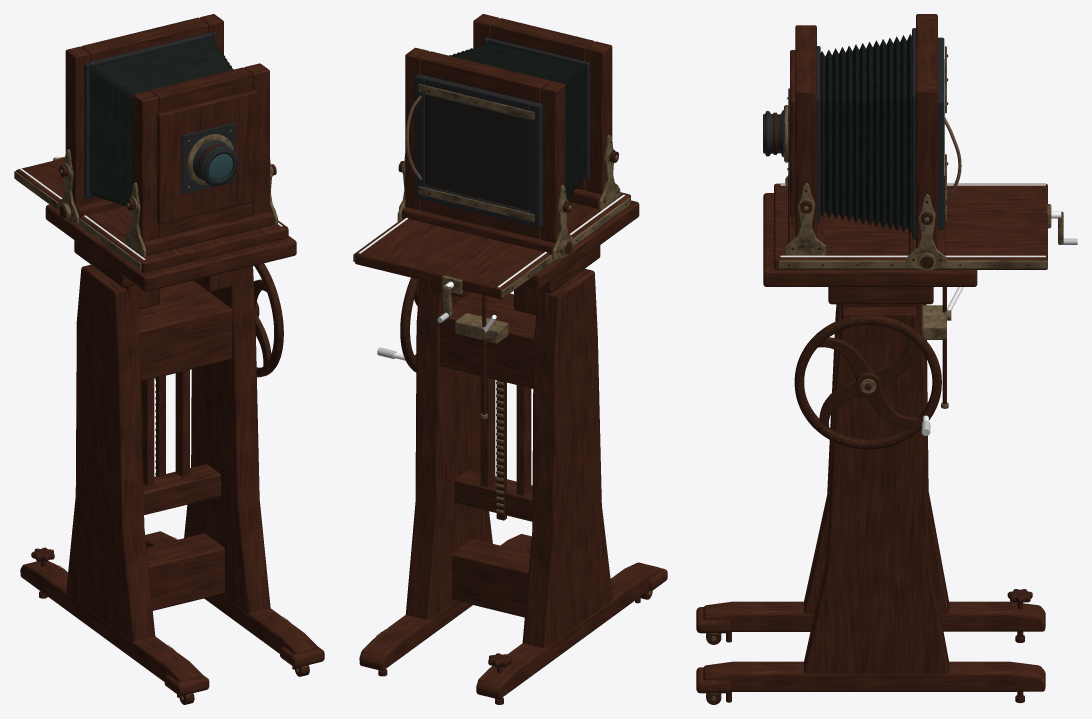
File: upload-2e7b5479-a400-417e-ad92-9e850afaa205.glb
The picture shows the model from 3 angles, left to right: view 1: azimuth 30°, elevation 25°; view 2: azimuth 150°, elevation 25°; view 3: azimuth 270°, elevation 25°; orthographic projection. The views are drawn at different scales.
Visible parts, largest first — view 1: Sehpa yan ana dikmesi, Sehpa yan ana dikmesi.001, 15 kıvrımlı kesik köşeli bez körük, Koyu maun objektif panosu, Yükseklik düzeneği ahşap muhafazası, Odak kızağı uzatma tablası, Kamera alt sabit ahşap taşıyıcı, Sehpa alt yatay kuşağı, Uzun maun taban ayağı, Ön maun çerçeve dikme, Arka maun çerçeve dikme, Uzun maun taban ayağı.001 (+24 smaller); view 2: Sehpa yan ana dikmesi, Sehpa yan ana dikmesi.001, Arka koyu netleme yüzeyi, Odak kızağı uzatma tablası, Yükseklik düzeneği ahşap muhafazası, Sehpa alt yatay kuşağı, 15 kıvrımlı kesik köşeli bez körük, Uzun maun taban ayağı, Arka maun çerçeve dikme, Uzun maun taban ayağı.001, Ön maun çerçeve dikme, Arka maun çerçeve yatay.001 (+26 smaller); view 3: Sehpa yan ana dikmesi.001, 15 kıvrımlı kesik köşeli bez körük, Odak kızağı uzatma tablası, Uzun maun taban ayağı.001, Uzun maun taban ayağı, Kamera alt sabit ahşap taşıyıcı, Açık çark jantı, Sehpa yan ana dikmesi, Arka maun çerçeve dikme.001, Ön maun çerçeve dikme.001, Boyuna pirinç kızak şeridi.001, Üst taşıma başlığı (+13 smaller).
Boxes of the visible parts, left/top/right/bottom form: Sehpa yan ana dikmesi: left=66, top=264, right=155, bottom=641; Sehpa yan ana dikmesi.001: left=184, top=266, right=270, bottom=613; 15 kıvrımlı kesik köşeli bez körük: left=89, top=38, right=233, bottom=206; Koyu maun objektif panosu: left=157, top=90, right=257, bottom=224; Yükseklik düzeneği ahşap muhafazası: left=138, top=280, right=232, bottom=381; Odak kızağı uzatma tablası: left=16, top=158, right=288, bottom=272; Kamera alt sabit ahşap taşıyıcı: left=45, top=204, right=296, bottom=291; Sehpa alt yatay kuşağı: left=146, top=533, right=224, bottom=610; Uzun maun taban ayağı: left=20, top=561, right=202, bottom=682; Ön maun çerçeve dikme: left=132, top=90, right=158, bottom=241; Arka maun çerçeve dikme: left=65, top=46, right=90, bottom=207; Uzun maun taban ayağı.001: left=145, top=531, right=317, bottom=654; Sehpa yan ana dikmesi: left=522, top=269, right=612, bottom=648; Sehpa yan ana dikmesi.001: left=405, top=280, right=492, bottom=620; Arka koyu netleme yüzeyi: left=425, top=93, right=530, bottom=210; Odak kızağı uzatma tablası: left=355, top=192, right=630, bottom=299; Yükseklik düzeneği ahşap muhafazası: left=423, top=292, right=549, bottom=388; Sehpa alt yatay kuşağı: left=452, top=539, right=530, bottom=617; 15 kıvrımlı kesik köşeli bez körük: left=449, top=43, right=584, bottom=199; Uzun maun taban ayağı: left=476, top=562, right=660, bottom=699; Arka maun çerçeve dikme: left=540, top=81, right=565, bottom=243; Uzun maun taban ayağı.001: left=359, top=534, right=531, bottom=670; Ön maun çerçeve dikme: left=585, top=41, right=612, bottom=194; Arka maun çerçeve yatay.001: left=421, top=51, right=549, bottom=103; Sehpa yan ana dikmesi.001: left=804, top=307, right=949, bottom=673; 15 kıvrımlı kesik köşeli bez körük: left=820, top=34, right=911, bottom=233; Odak kızağı uzatma tablası: left=774, top=183, right=1047, bottom=269; Uzun maun taban ayağı.001: left=703, top=661, right=1045, bottom=691; Uzun maun taban ayağı: left=703, top=601, right=1045, bottom=631; Kamera alt sabit ahşap taşıyıcı: left=763, top=193, right=977, bottom=286; Açık çark jantı: left=794, top=314, right=941, bottom=449; Sehpa yan ana dikmesi: left=804, top=304, right=949, bottom=613; Arka maun çerçeve dikme.001: left=916, top=83, right=937, bottom=249; Ön maun çerçeve dikme.001: left=795, top=83, right=816, bottom=238; Boyuna pirinç kızak şeridi.001: left=778, top=260, right=1047, bottom=268; Üst taşıma başlığı: left=828, top=287, right=933, bottom=304.
Bounding box in the file's own units: 0.5464 × 1.6 × 0.8905.
11 materials, 5 textured.
